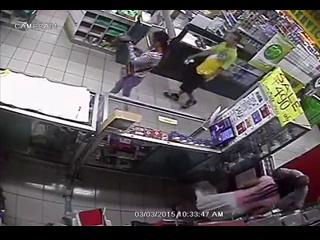Normal: (165, 32, 242, 109), (108, 31, 170, 98)
